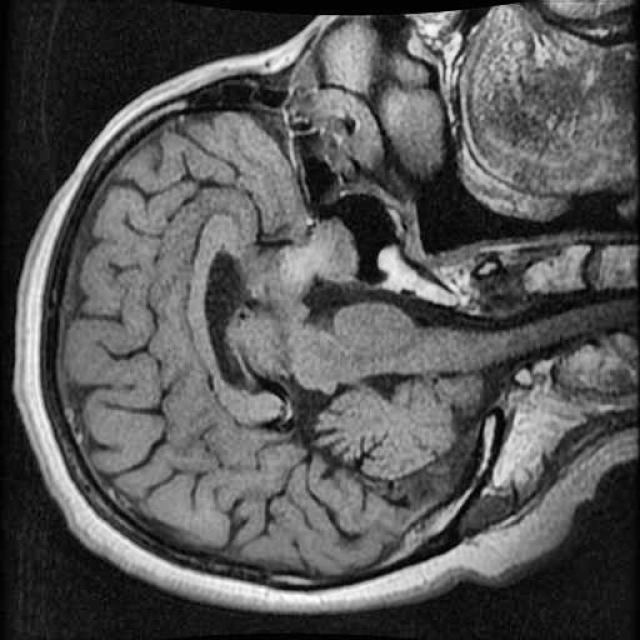Tumor: (269, 203, 366, 308)
